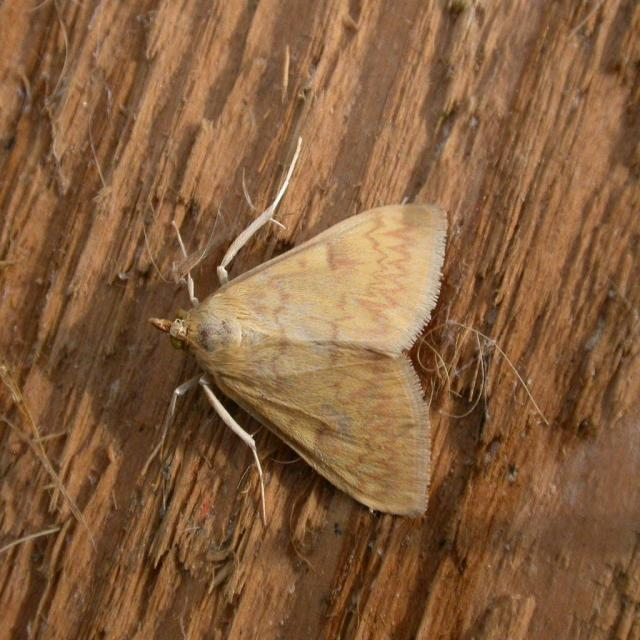cornborer-Adult-: (129, 125, 461, 546)
